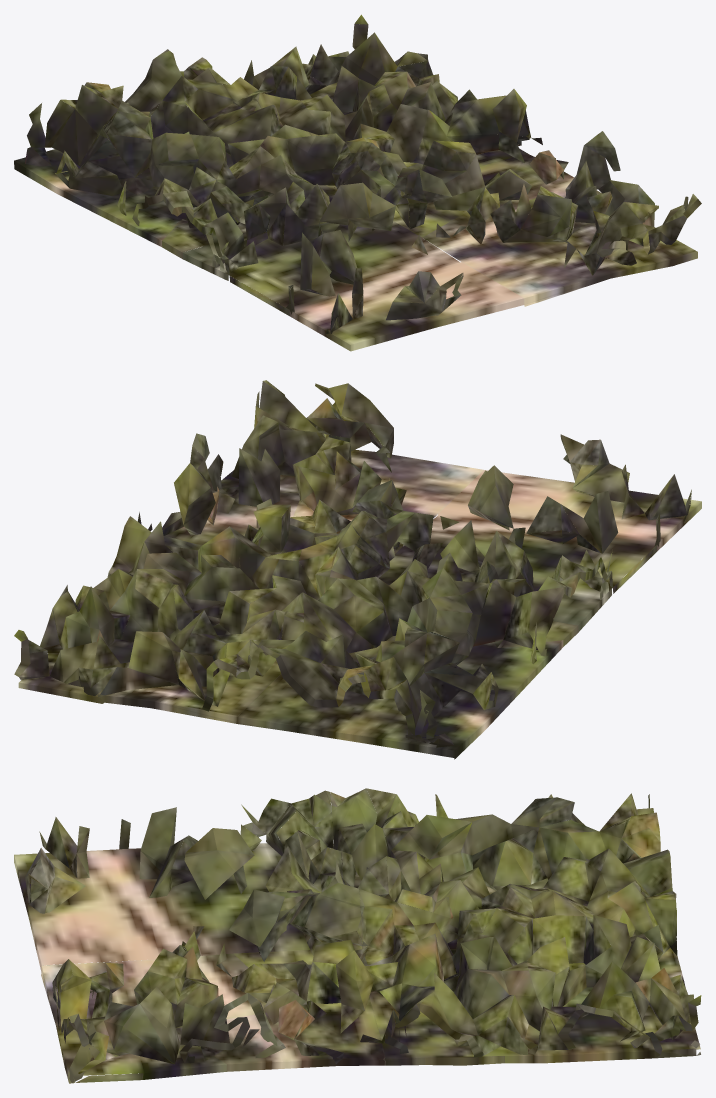
The picture shows the model from 3 angles, top to bottom: view 1: azimuth 30°, elevation 25°; view 2: azimuth 150°, elevation 25°; view 3: azimuth 270°, elevation 25°; orthographic projection. The views are drawn at different scales.
Parts seen in each view (by area): view 1: Mesh_0; view 2: Mesh_0; view 3: Mesh_0.
Part boxes in pixels (x1=…): Mesh_0: x1=14, y1=14, x2=701, y2=351; Mesh_0: x1=14, y1=380, x2=701, y2=759; Mesh_0: x1=14, y1=788, x2=701, y2=1083.
Bounding box in the file's own units: 134 × 29.06 × 165.
2 materials, 2 textured.
